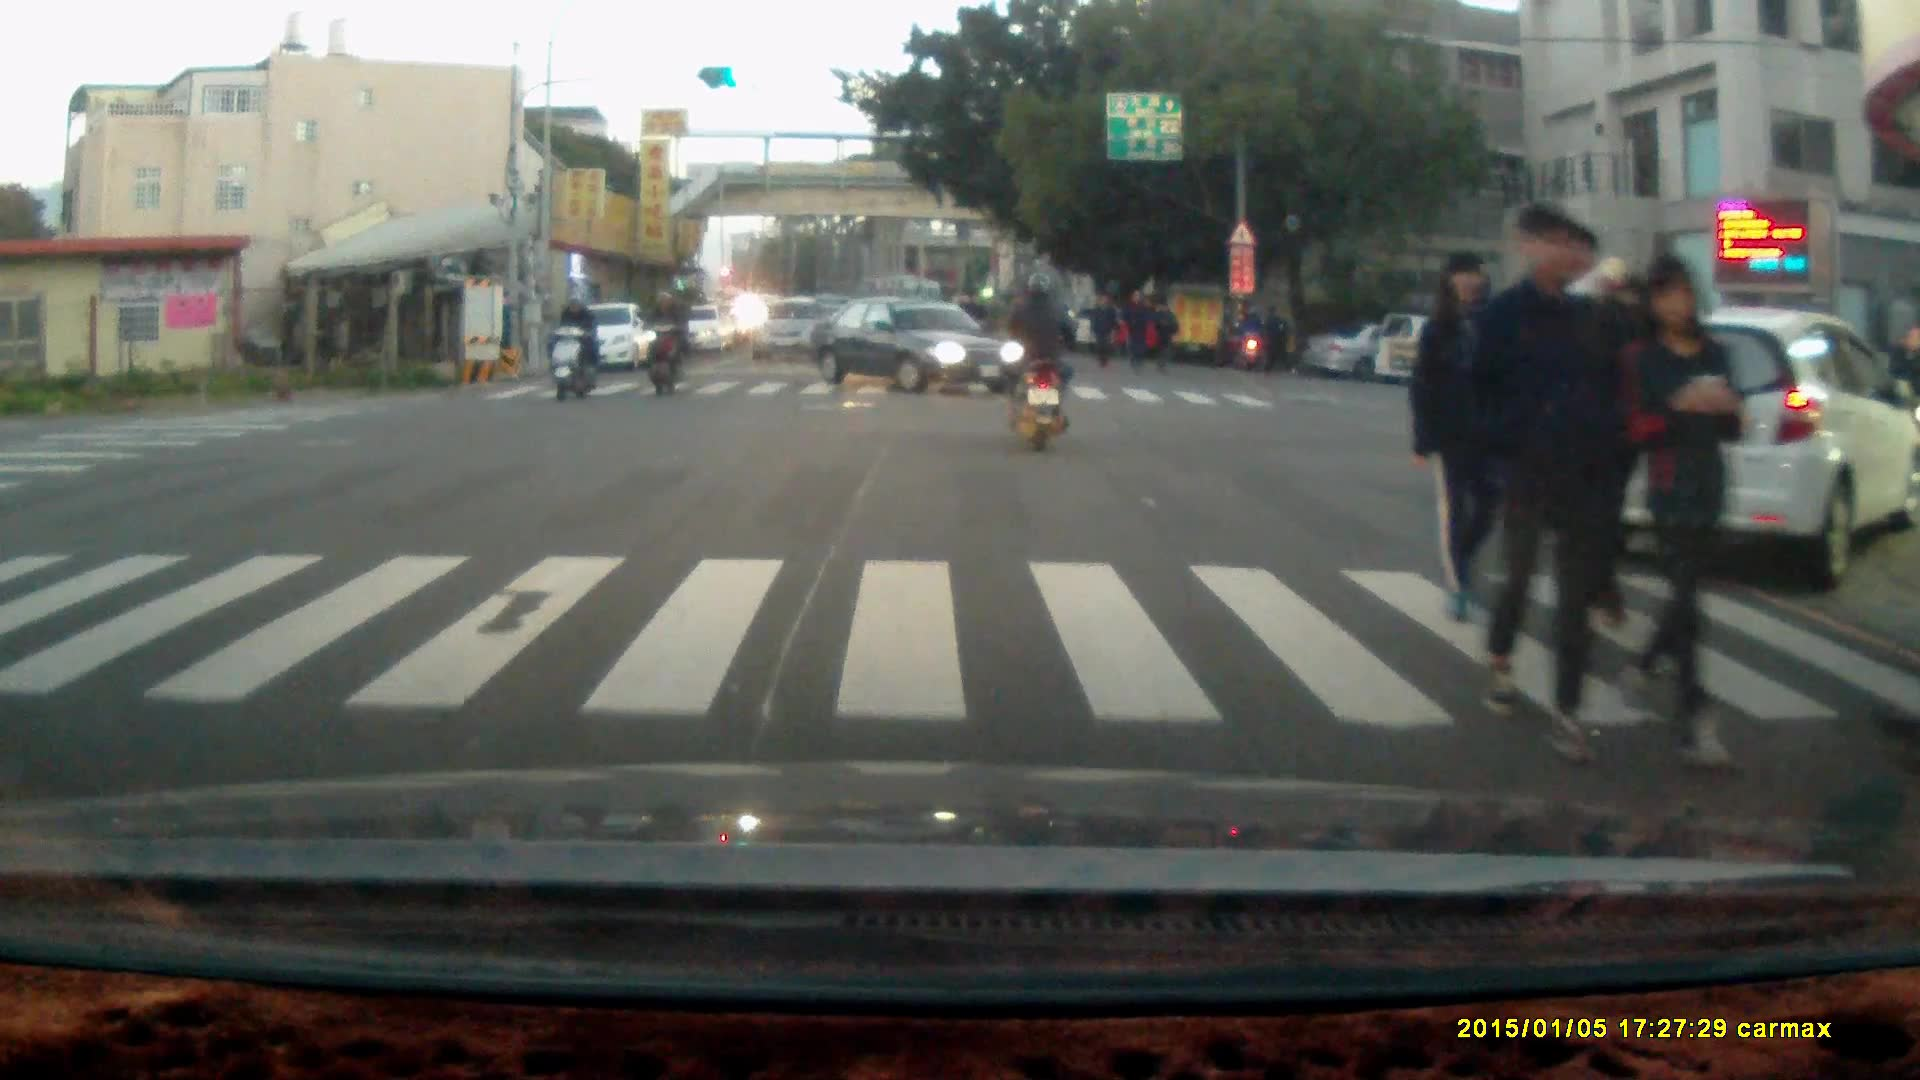pedestrian: (1457, 194, 1628, 767), (1616, 247, 1750, 771), (1409, 244, 1530, 625), (1119, 284, 1150, 374), (1145, 294, 1177, 376), (1089, 291, 1119, 373), (1257, 298, 1288, 375)
rider: (1004, 266, 1077, 451), (546, 283, 600, 400), (636, 282, 690, 394), (1228, 302, 1267, 367)
vehicle: (1579, 308, 1920, 601), (802, 289, 1031, 393), (1304, 315, 1471, 383), (556, 302, 659, 372), (748, 297, 832, 365)
